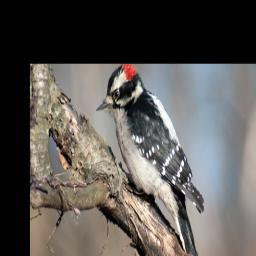Woodpecker: (92, 65, 205, 256)
